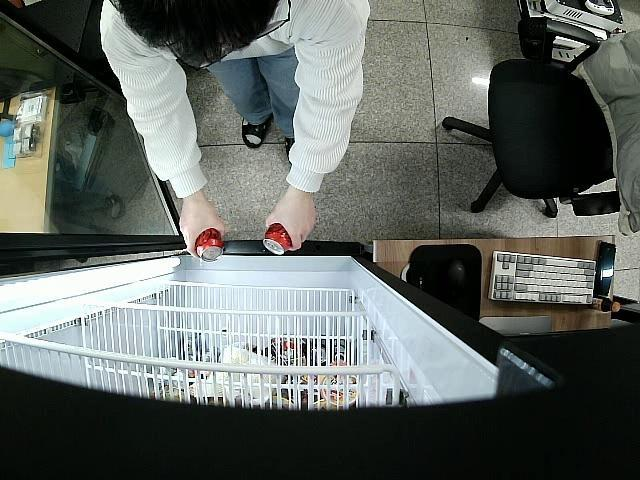11_cocaColaZero: (192, 227, 223, 262), (262, 222, 291, 255)
